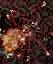spider: (1, 0, 53, 64)
